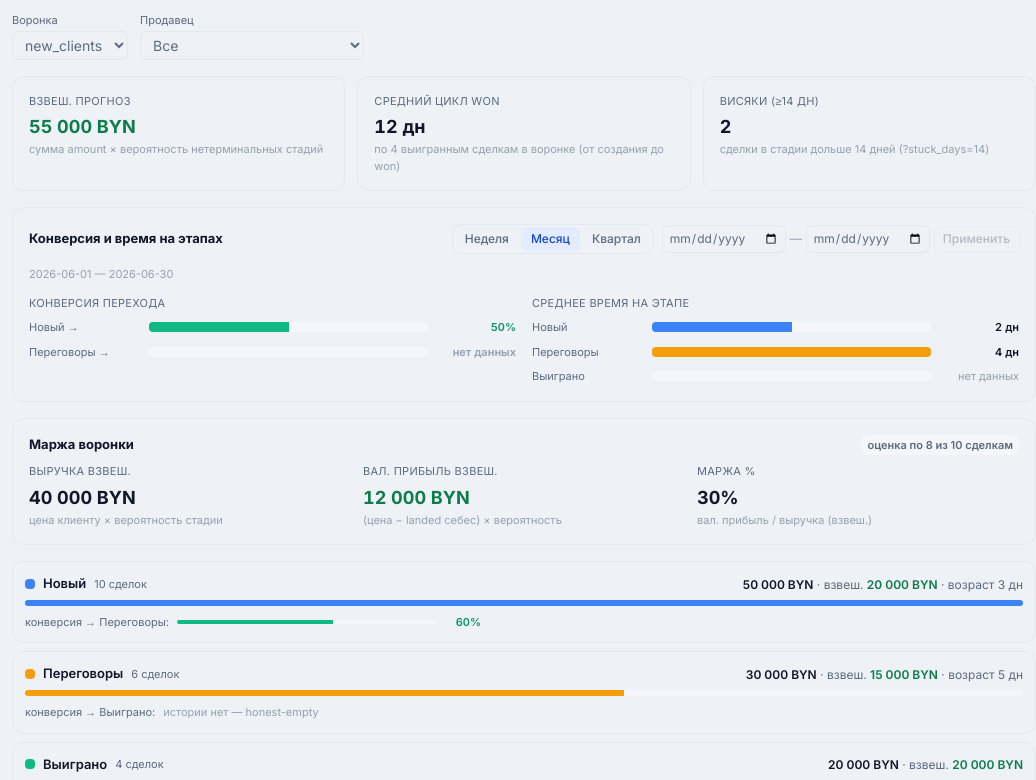
PipelineAnalytics › режим «Все» без настроенных воронок — honest-empty про пустую аналитику
Expected: the text "Взвеш. прогноз" is shown, left=29, top=94, right=131, bottom=108
// переключаем select воронки на «Все» (funnels пусты в фикстуре)
Select "Все" in the dropdown showing "new_clients" at (70, 45), box left=12, top=30, right=128, bottom=60
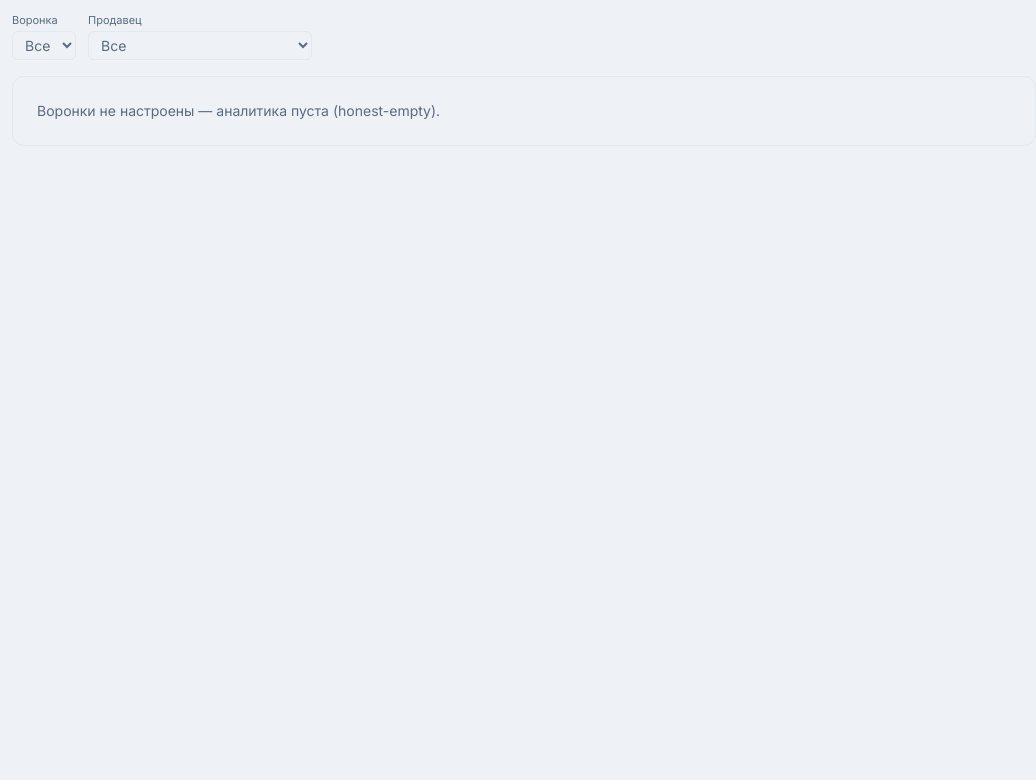
Expected: the text "Воронки не настроены — аналитика пуста (honest-empty)." is shown, left=12, top=76, right=1035, bottom=146
